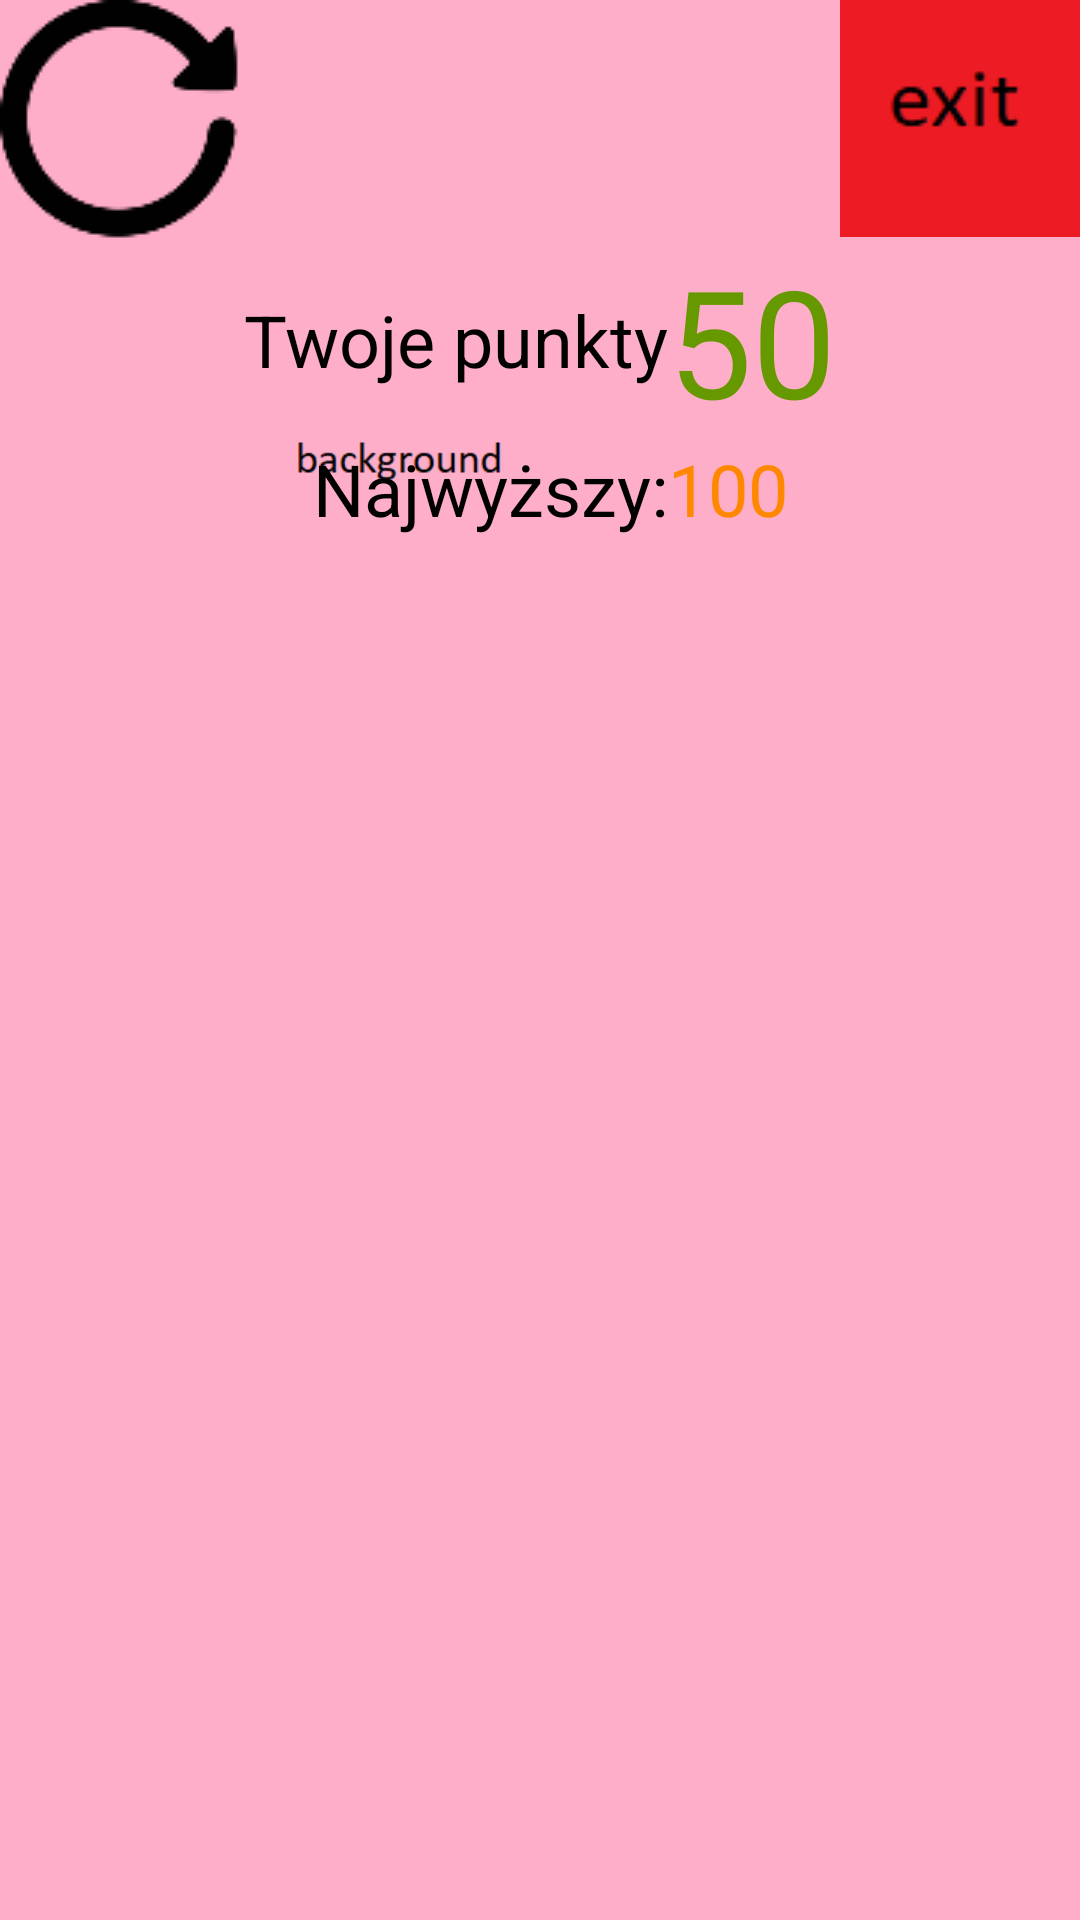

Screen size 1080 x 1920. Icon name, then its center in pixels as (x=x, y=y):
restart: (x=119, y=119)
